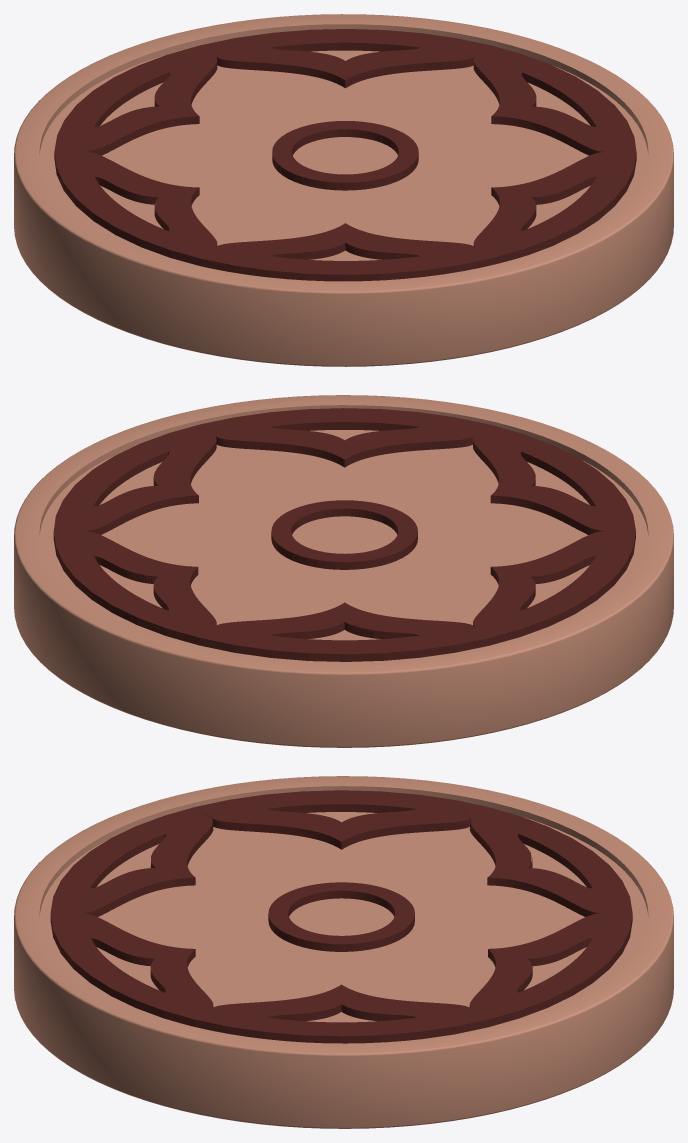
The model's file is Rose_W.fbx.
3 views of the same model, one above another, from view 1: azimuth 30°, elevation 25°; view 2: azimuth 150°, elevation 25°; view 3: azimuth 270°, elevation 25° (orthographic).
Parts seen in each view (by area): view 1: Tile09.002; view 2: Tile09.002; view 3: Tile09.002.
Part boxes in pixels (<box>): Tile09.002: <box>14,14,673,366</box>; Tile09.002: <box>14,395,673,747</box>; Tile09.002: <box>14,776,673,1128</box>.
Bounding box in the file's own units: 13.25 × 1.71 × 13.25.
